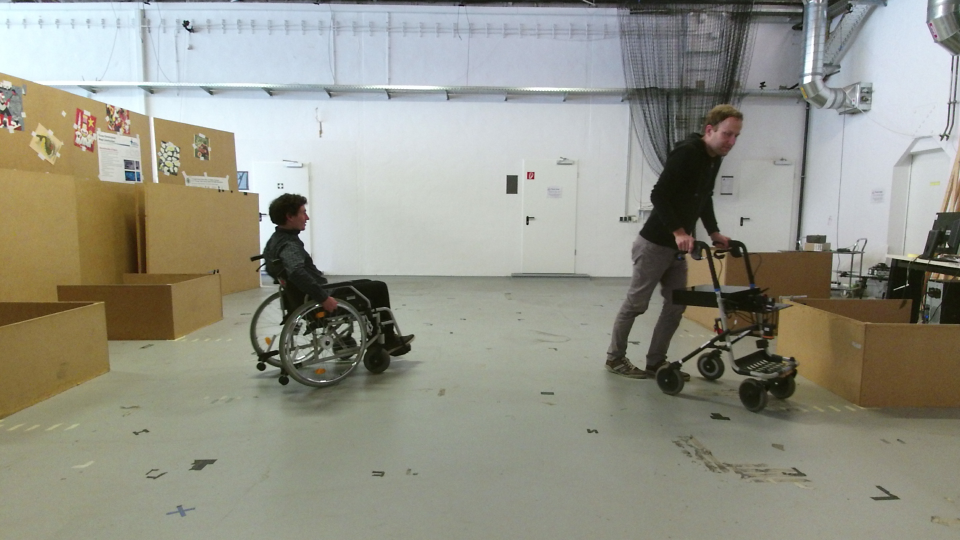wheelchair: (235, 186, 411, 393)
